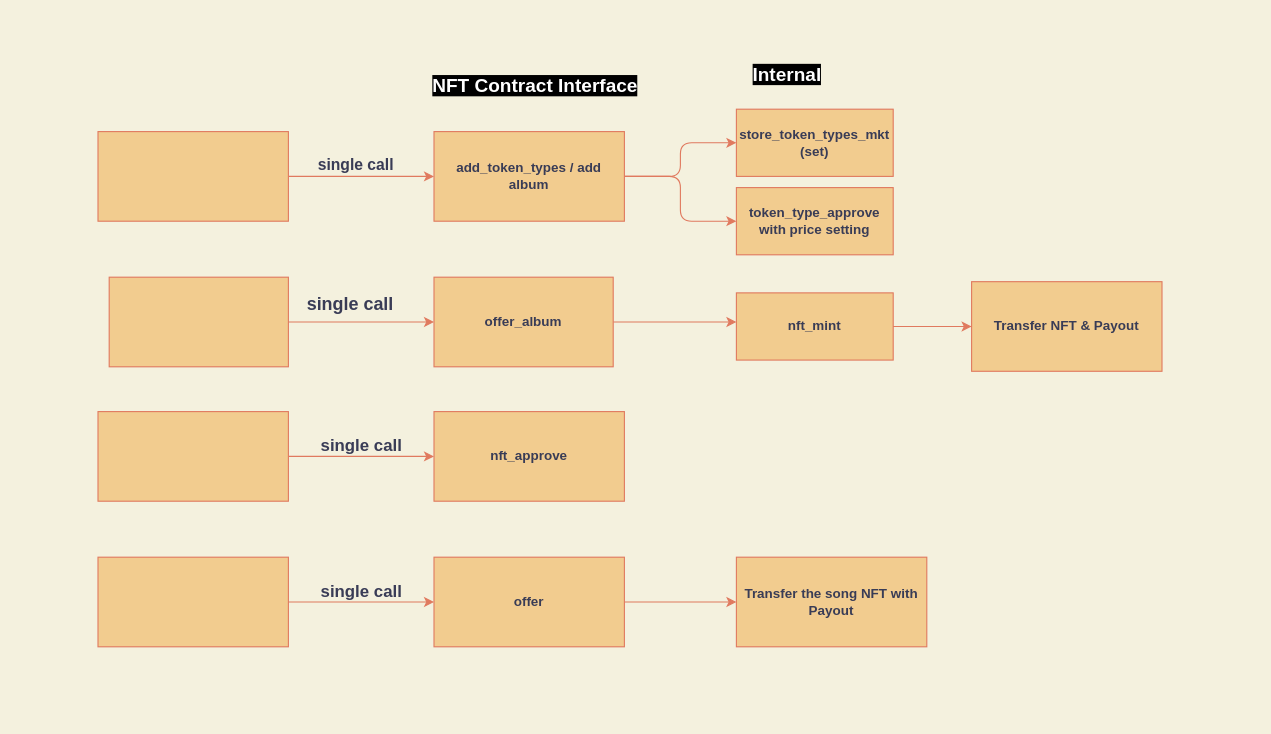
Image size: 1271x734. Some labels were removed from this diagram. Each missing label, with the centre of its shape:
"Buying Album" goes at point 198,321.
"Buying Single Songs" goes at point 192,601.
"Reselling Songs" goes at point 192,455.
"Upload and List all Album Copies for Sale on Market" goes at point 192,175.
